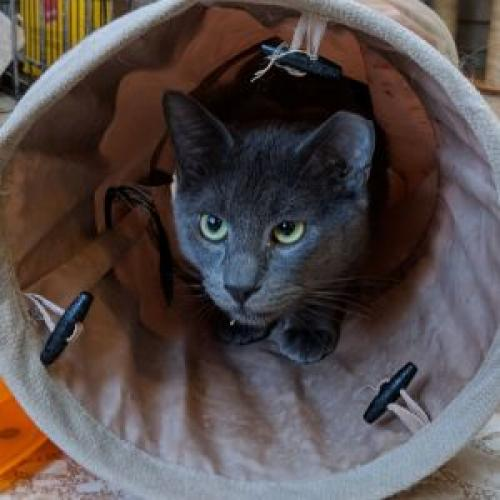rblue: (153, 93, 411, 338)
